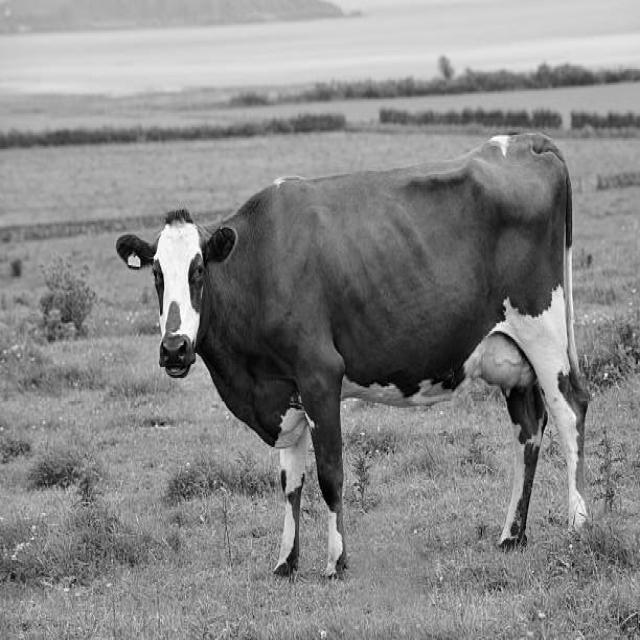Cow: (113, 128, 592, 584)
